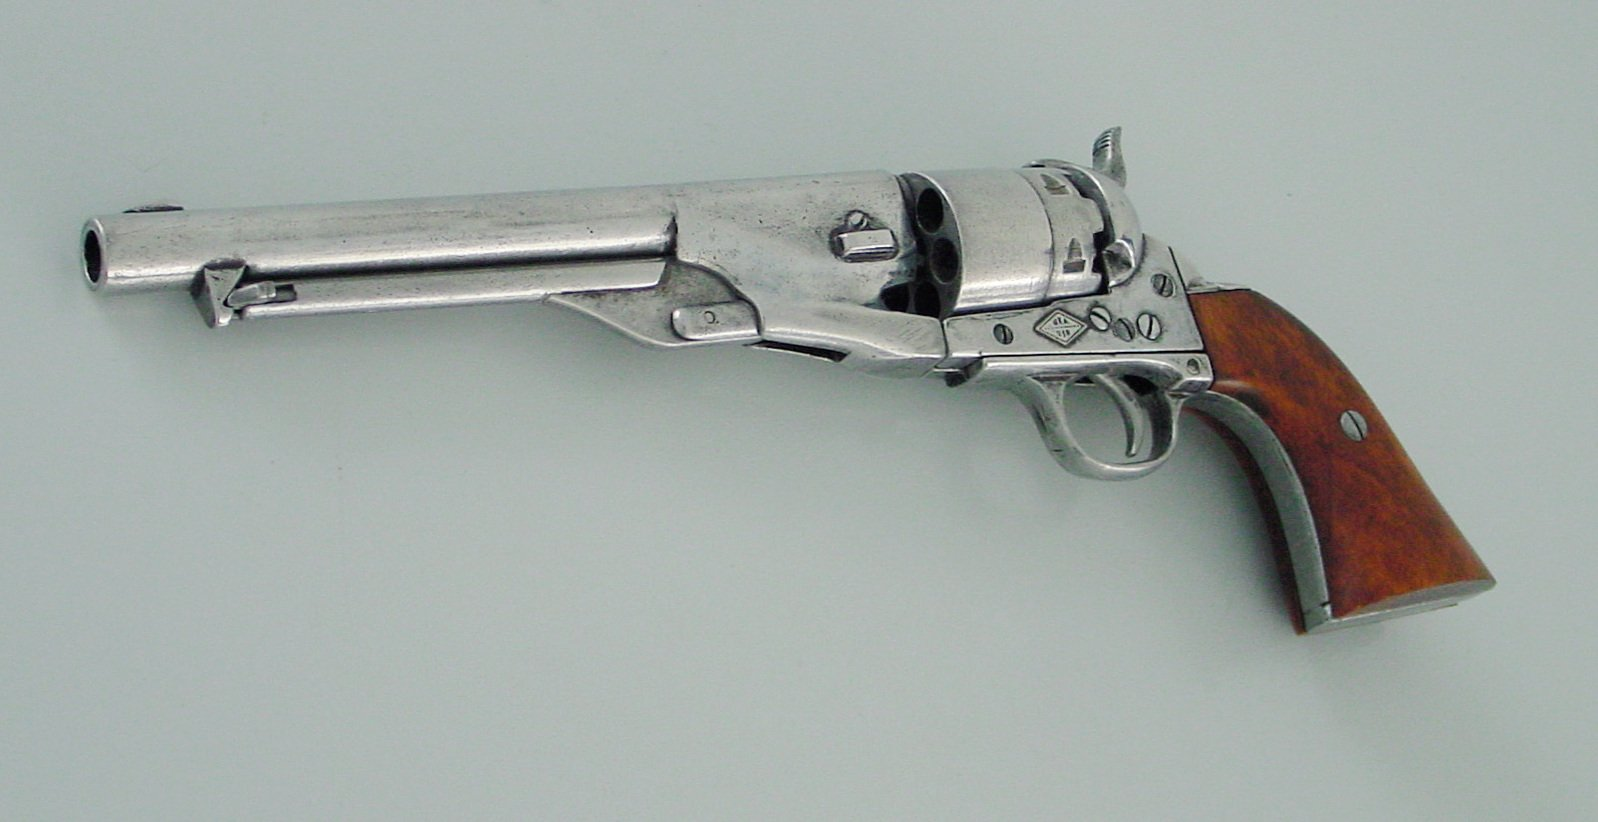gun: (70, 123, 1496, 637)
